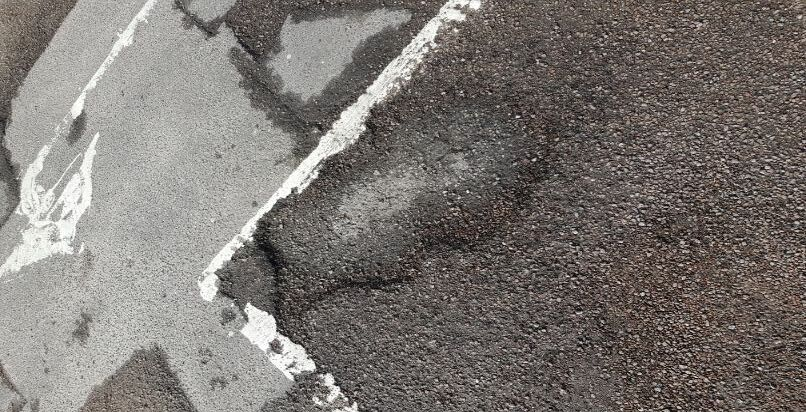pothole: (249, 78, 565, 333)
